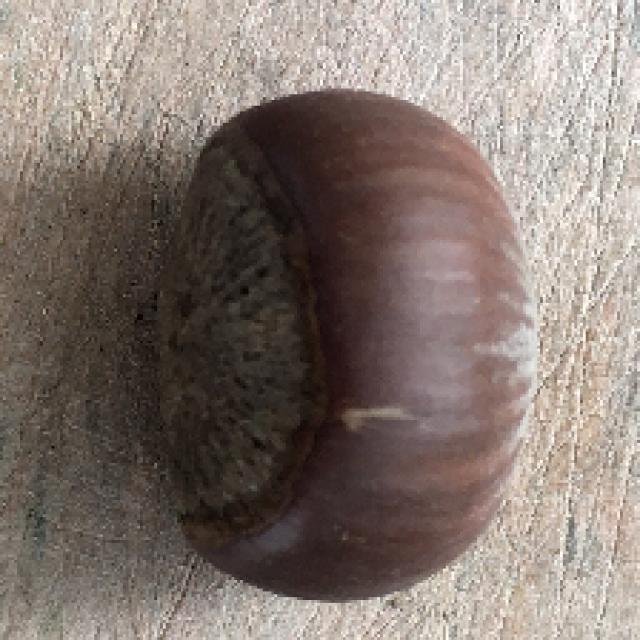damagedHazelnut: (147, 88, 546, 603)
